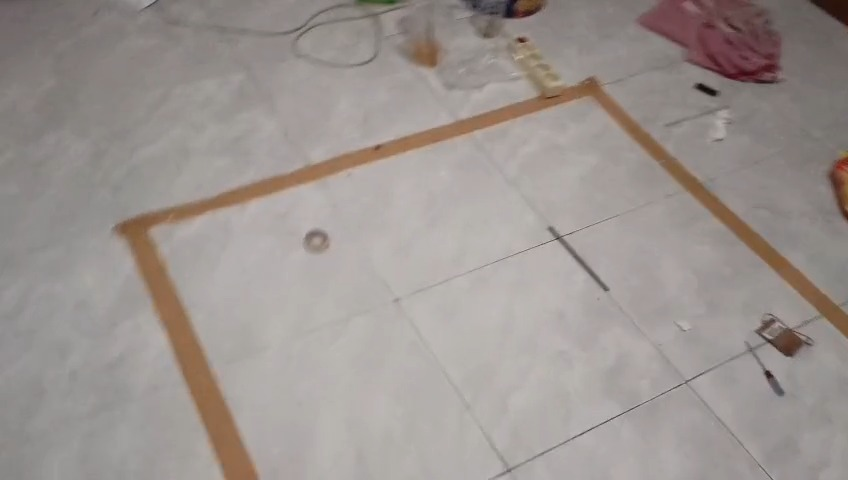floor marking: (115, 77, 847, 479)
